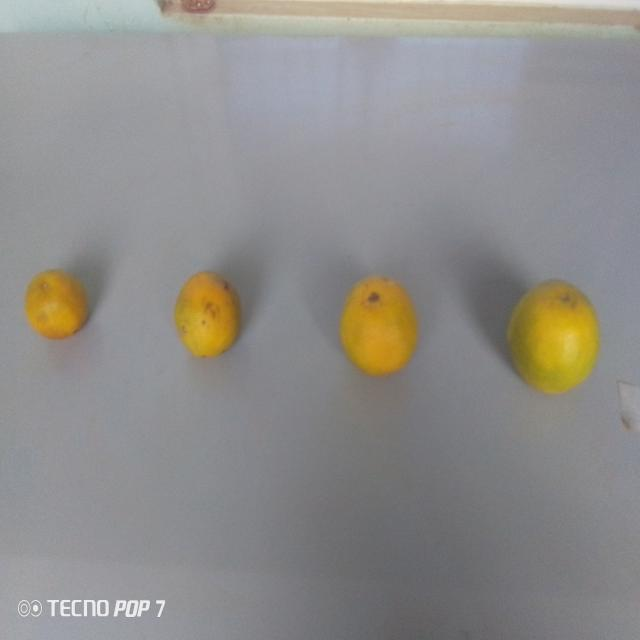Ripe orange: (501, 275, 604, 400), (324, 272, 424, 382), (166, 267, 250, 367), (24, 265, 91, 340)
